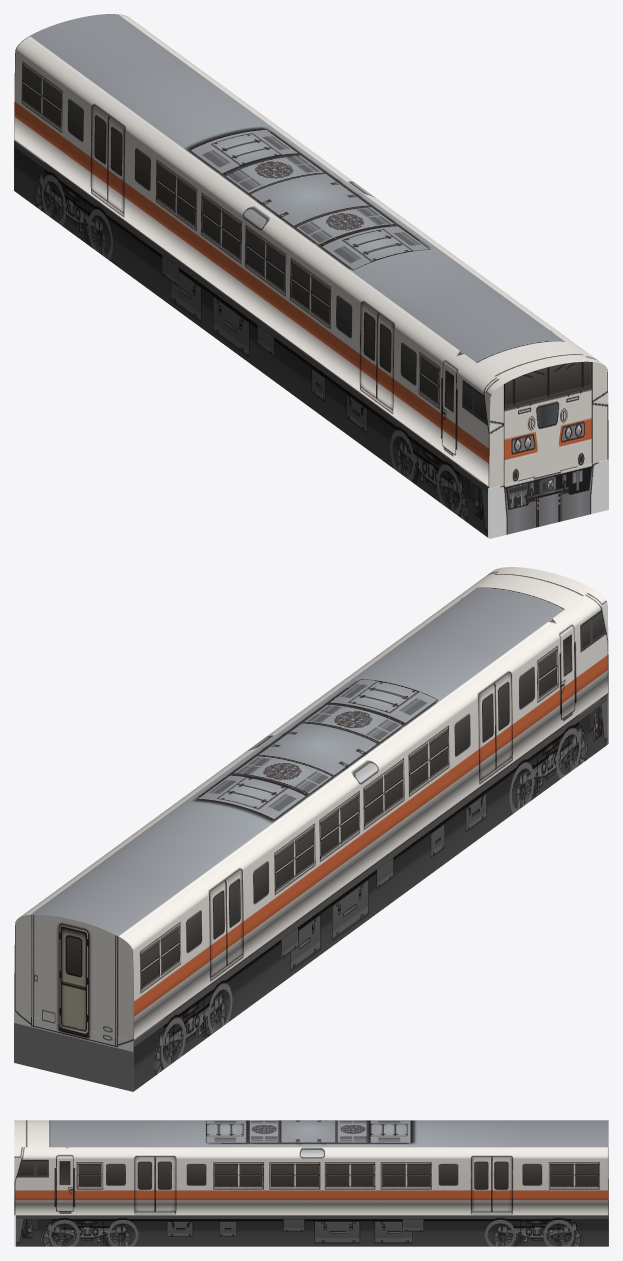
File: car1.glb
The picture shows the model from 3 angles, top to bottom: view 1: azimuth 30°, elevation 25°; view 2: azimuth 150°, elevation 25°; view 3: azimuth 270°, elevation 25°; orthographic projection. The views are drawn at different scales.
Parts seen in each view (by area): view 1: jr-tokai-117-car1; view 2: jr-tokai-117-car1; view 3: jr-tokai-117-car1.
Part boxes in pixels (x1,y1,x2,y2): jr-tokai-117-car1: [14, 14, 608, 538]; jr-tokai-117-car1: [14, 567, 608, 1091]; jr-tokai-117-car1: [14, 1120, 608, 1246].
Size of the model in its own units: 2.9 by 3.65 by 20.03.
9 materials, 8 textured.
